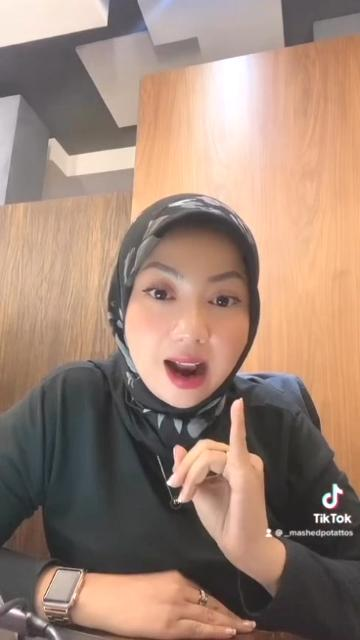I: (163, 396, 278, 558)
